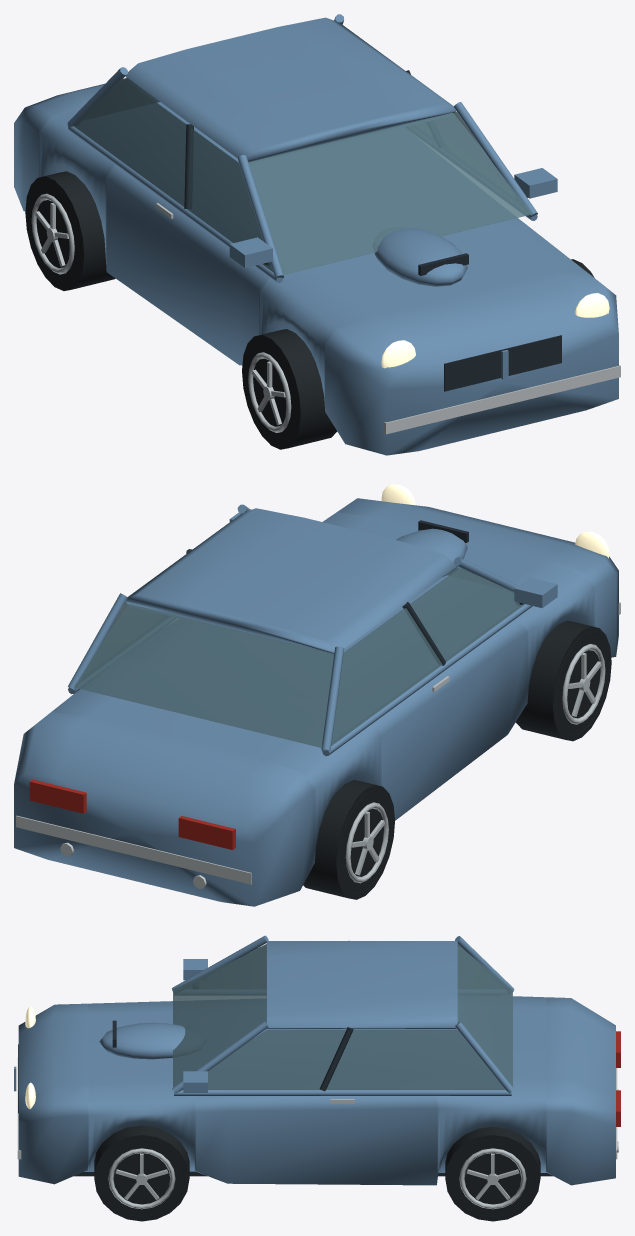
The model's file is gto.glb.
The picture shows the model from 3 angles, top to bottom: view 1: azimuth 30°, elevation 25°; view 2: azimuth 150°, elevation 25°; view 3: azimuth 270°, elevation 25°; orthographic projection. The views are drawn at different scales.
Visible parts, largest first — view 1: exterior-paint, windows, tire-front-left, tire-rear-left, black-trim, chrome, rim-front-left, rim-rear-left, headlights; view 2: exterior-paint, windows, tire-front-left, tire-rear-left, chrome, taillights, rim-front-left, rim-rear-left, headlights, black-trim; view 3: exterior-paint, windows, tire-front-right, tire-rear-right, rim-front-right, rim-rear-right, black-trim, headlights, chrome.
Boxes of the visible parts, left/top/right/bottom form: exterior-paint: left=14, top=14, right=618, bottom=455; windows: left=73, top=77, right=532, bottom=274; tire-front-left: left=242, top=329, right=337, bottom=449; tire-rear-left: left=25, top=171, right=115, bottom=290; black-trim: left=184, top=70, right=561, bottom=391; chrome: left=156, top=203, right=620, bottom=434; rim-front-left: left=248, top=352, right=291, bottom=432; rim-rear-left: left=31, top=193, right=74, bottom=274; headlights: left=381, top=293, right=609, bottom=368; exterior-paint: left=14, top=498, right=618, bottom=906; windows: left=74, top=567, right=524, bottom=747; tire-front-left: left=515, top=620, right=611, bottom=741; tire-rear-left: left=303, top=780, right=394, bottom=899; chrome: left=16, top=602, right=620, bottom=888; taillights: left=29, top=779, right=235, bottom=849; rim-front-left: left=562, top=644, right=605, bottom=724; rim-rear-left: left=345, top=802, right=388, bottom=883; headlights: left=381, top=484, right=609, bottom=558; black-trim: left=186, top=520, right=523, bottom=665; exterior-paint: left=14, top=935, right=615, bottom=1185; windows: left=173, top=944, right=512, bottom=1089; tire-front-right: left=94, top=1125, right=189, bottom=1221; tire-rear-right: left=445, top=1127, right=540, bottom=1221; rim-front-right: left=108, top=1148, right=175, bottom=1209; rim-rear-right: left=459, top=1148, right=526, bottom=1209; black-trim: left=18, top=940, right=553, bottom=1176; headlights: left=25, top=1006, right=35, bottom=1109; chrome: left=17, top=1057, right=618, bottom=1159.
Size of the model in its own units: 1.95 by 1.32 by 3.94.
